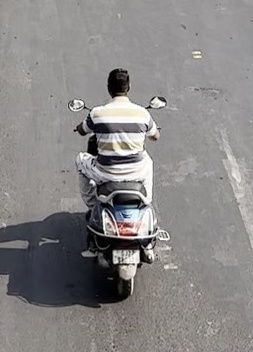BikeWithRider: (66, 67, 168, 300)
NoHelmet: (105, 68, 133, 100)
